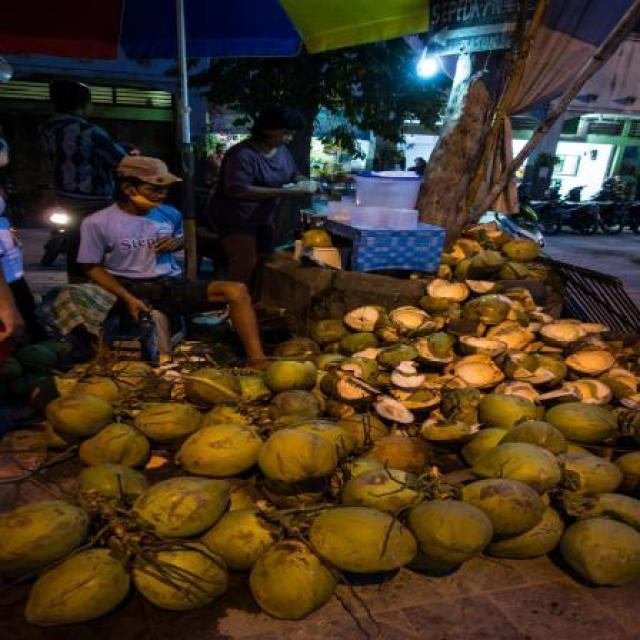Coconut: (0, 317, 639, 629), (450, 238, 552, 282), (300, 230, 342, 247)
